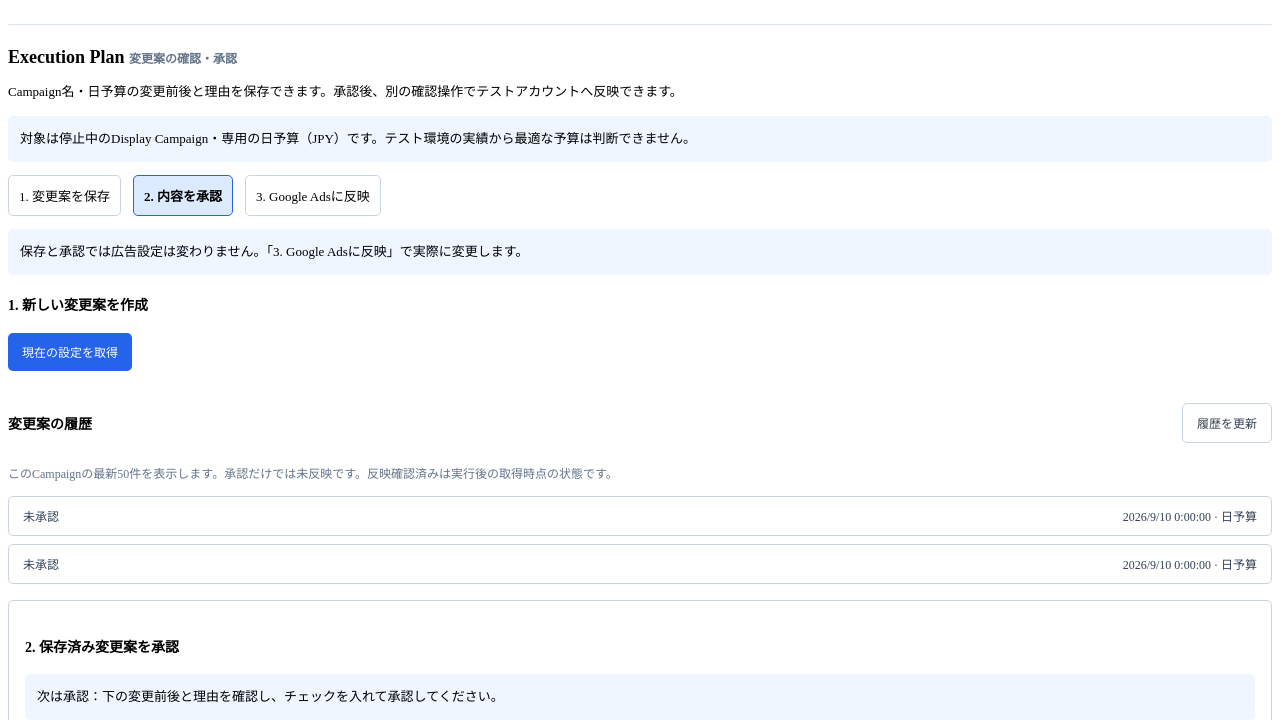
Scenario: ExecutionPlanPanel › shows stale approval and resets acknowledgement when selecting another plan
The image size is (1280, 720).
Expected: the button "現在の設定を取得" is enabled, [8, 332, 132, 370]
What coordinates should you click on to do the following:
click the 1st button "未承認 2026/9/10 0:00:00 · 日予算"
I would click on:
 (41, 517)
Its box is [8, 496, 1272, 536].
(page scrolled)
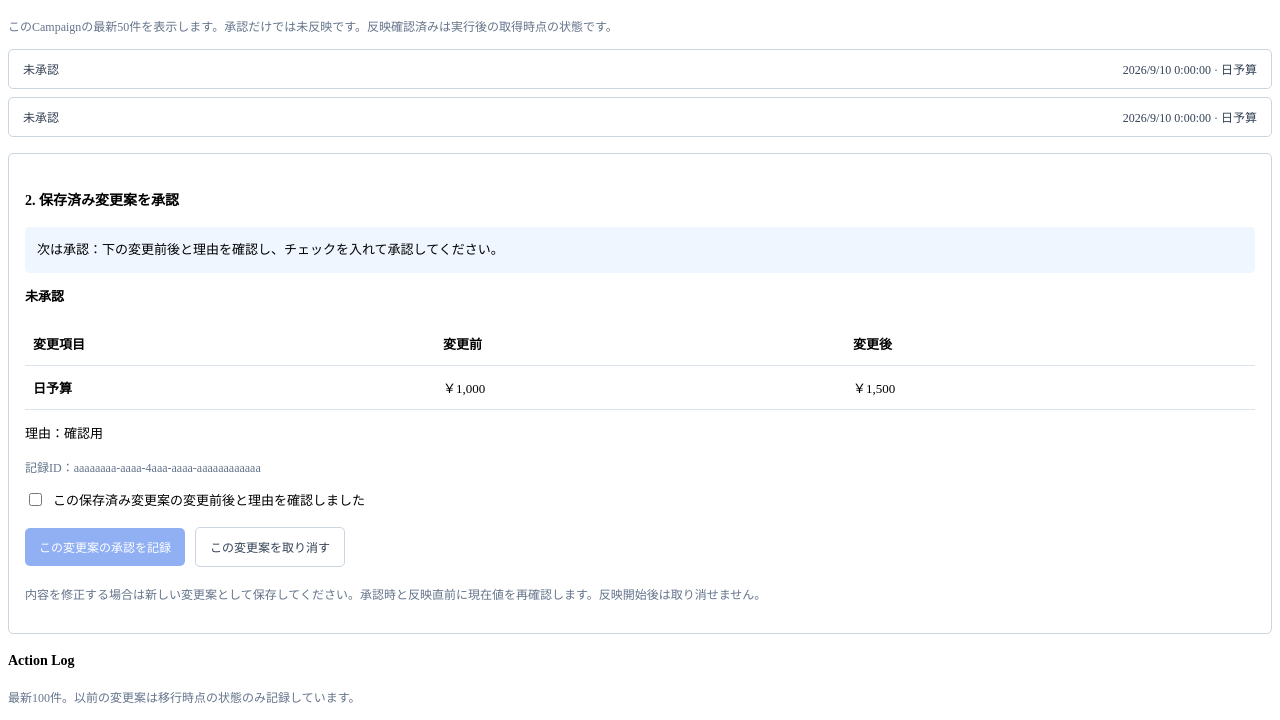
What coordinates should you click on to do the following:
click the checkbox labelled "この保存済み変更案の変更前後と理由を確認しました"
I would click on:
 (36, 500)
Its box is [29, 493, 42, 506].
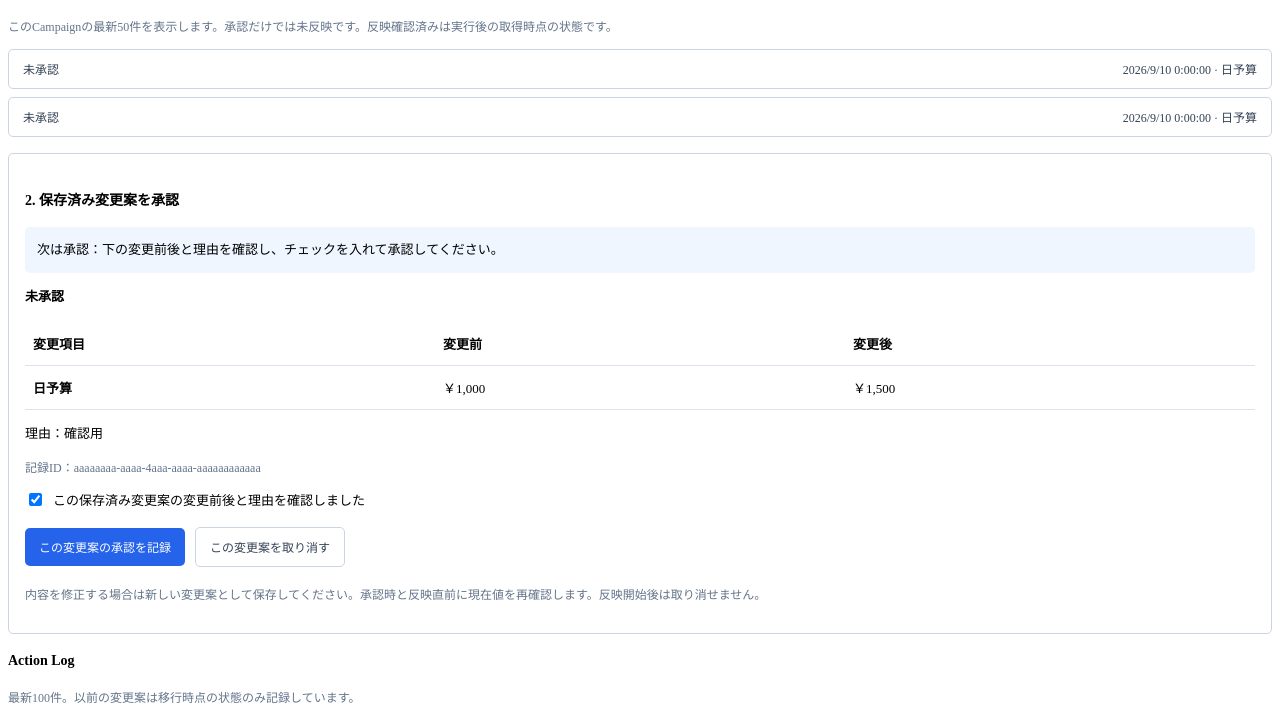
What coordinates should you click on to do the following:
click the 2nd button "未承認 2026/9/10 0:00:00 · 日予算"
I would click on:
 (41, 118)
Its box is [8, 97, 1272, 137].
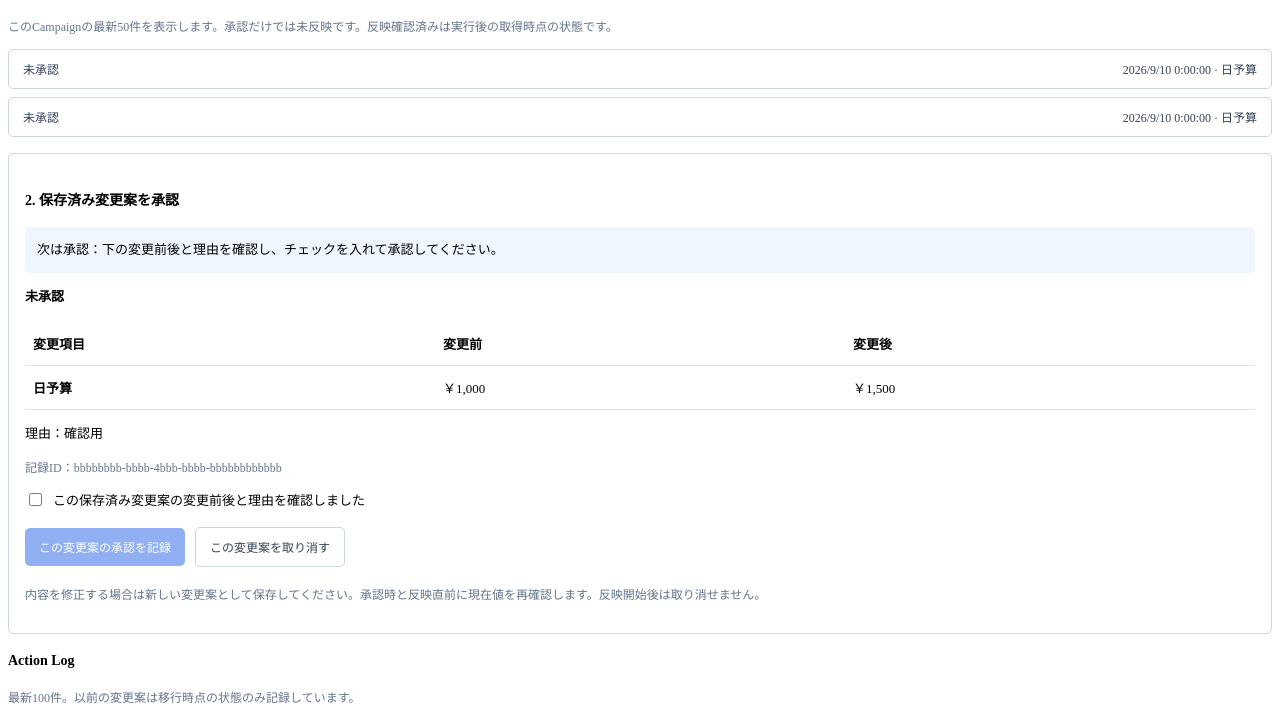
Result: the button "この変更案の承認を記録" is disabled at [25, 528, 185, 566]
What coordinates should you click on to do the following:
click the 1st button "未承認 2026/9/10 0:00:00 · 日予算"
I would click on:
 (41, 70)
Its box is [8, 49, 1272, 89].
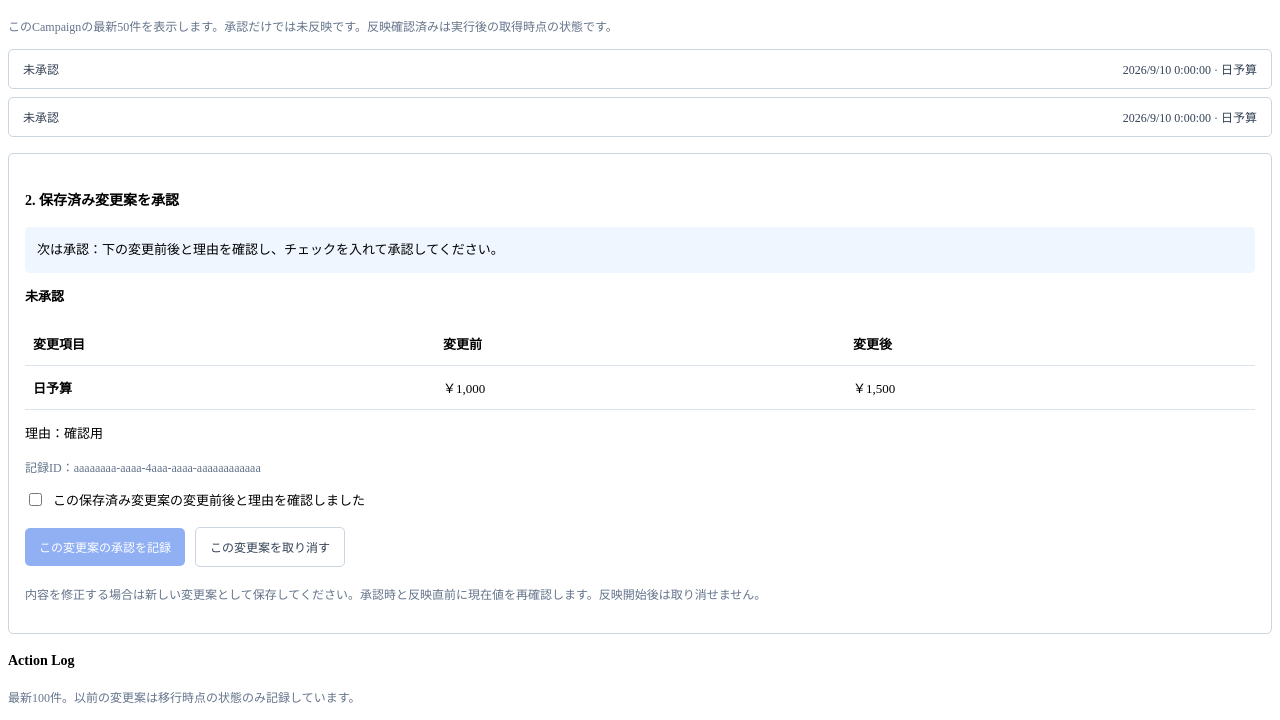
What coordinates should you click on to do the following:
click the checkbox labelled "この保存済み変更案の変更前後と理由を確認しました"
I would click on:
 (36, 500)
Its box is [29, 493, 42, 506].
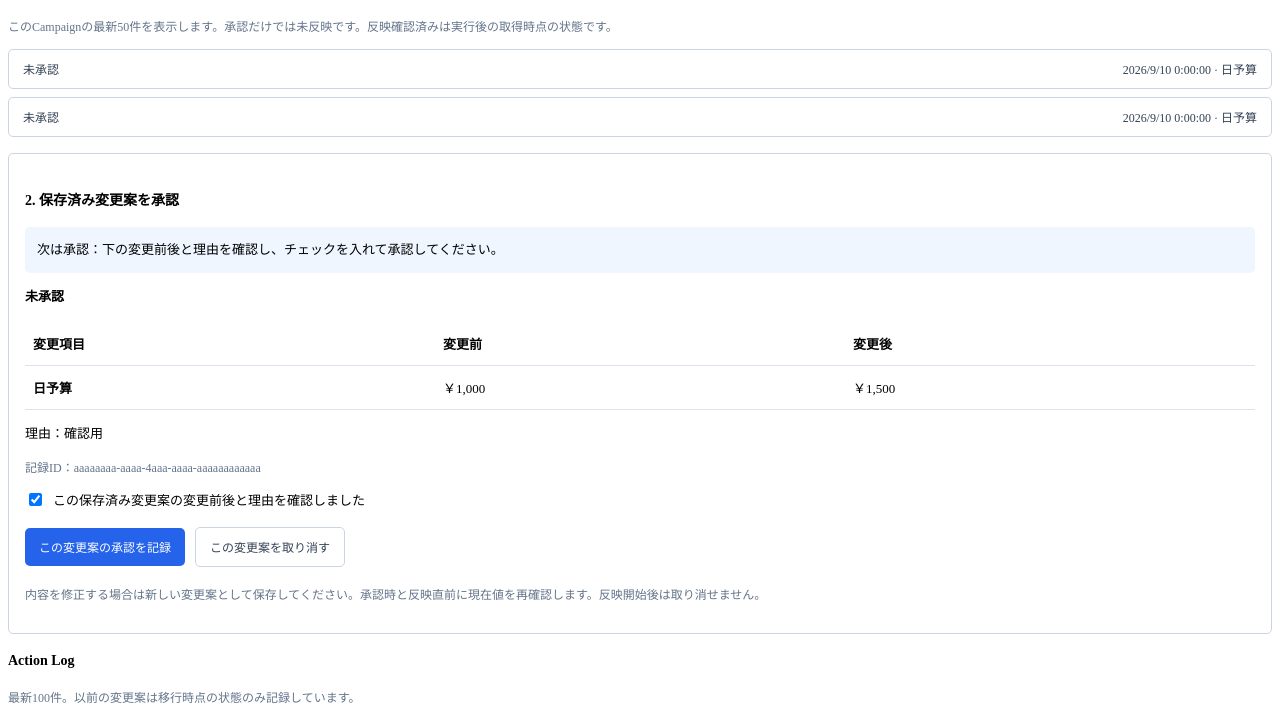
What coordinates should you click on to do the following:
click the button "この変更案の承認を記録"
I would click on:
 (105, 547)
Its box is [25, 528, 185, 566].
(page scrolled)
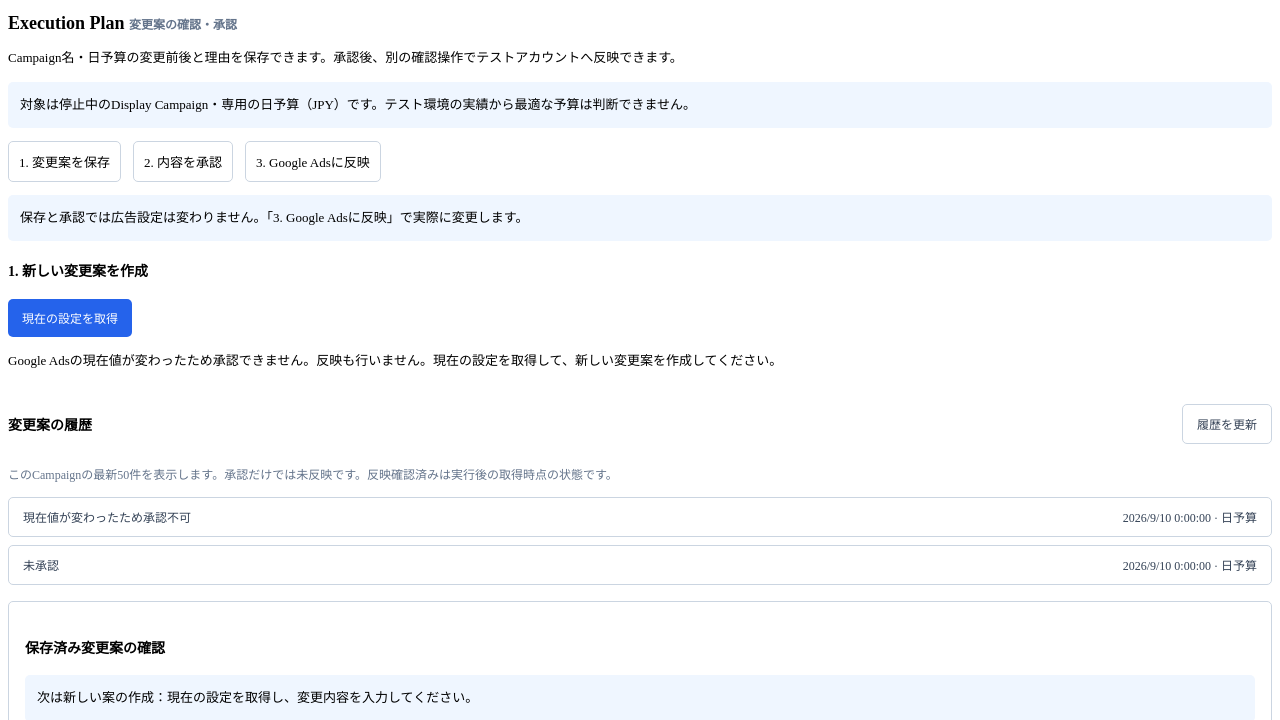
Result: the text "Google Adsの現在値が変わったため承認できません。反映も行いません。現在の設定を取得して、新しい変更案を作成してください。" is shown at [8, 352, 782, 368]
Result: the button "この変更案の承認を記録" is gone
